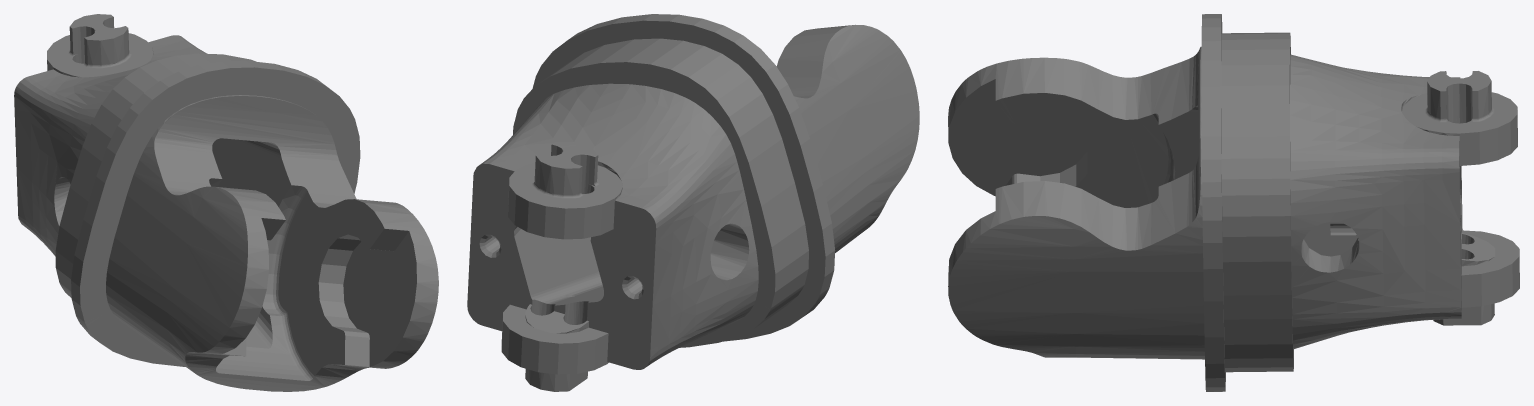
File: rh_thumb_metacarpals_base1_vis.obj
The picture shows the model from 3 angles, left to right: view 1: azimuth 30°, elevation 25°; view 2: azimuth 150°, elevation 25°; view 3: azimuth 270°, elevation 25°; orthographic projection. The views are drawn at different scales.
Parts seen in each view (by area): view 1: rh_thumb_metacarpals_base1; view 2: rh_thumb_metacarpals_base1; view 3: rh_thumb_metacarpals_base1.
Boxes of the visible parts, bbox=[...] form: rh_thumb_metacarpals_base1: bbox=[14, 14, 438, 391]; rh_thumb_metacarpals_base1: bbox=[467, 14, 919, 391]; rh_thumb_metacarpals_base1: bbox=[948, 14, 1519, 391].
Size of the model in its own units: 0.027 by 0.0281 by 0.0439.
Materials: 1 (1 with a texture image).
